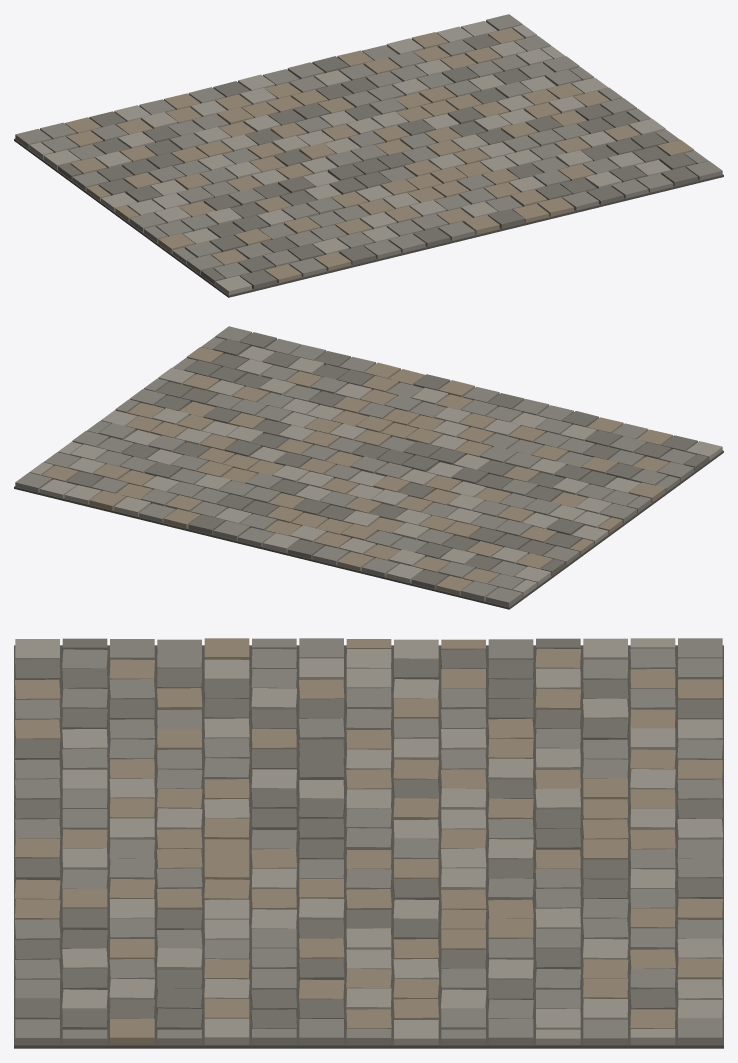
The model's file is suelo-calles-adoquin-calle-recta.glb.
3 renders of one model, top to bottom at view 1: azimuth 30°, elevation 25°; view 2: azimuth 150°, elevation 25°; view 3: azimuth 270°, elevation 25°, orthographic. The views are drawn at different scales.
Parts seen in each view (by area): view 1: calle_recta_AdoquinGris1, calle_recta_AdoquinCalido, calle_recta_AdoquinGris3, calle_recta_AdoquinGris2, calle_recta_LosaCalle; view 2: calle_recta_AdoquinGris1, calle_recta_AdoquinCalido, calle_recta_AdoquinGris3, calle_recta_AdoquinGris2, calle_recta_LosaCalle; view 3: calle_recta_AdoquinGris1, calle_recta_AdoquinCalido, calle_recta_AdoquinGris3, calle_recta_AdoquinGris2, calle_recta_LosaCalle.
Part boxes in pixels (bbox=[...]): calle_recta_AdoquinGris1: bbox=[15, 14, 722, 278]; calle_recta_AdoquinCalido: bbox=[64, 28, 694, 283]; calle_recta_AdoquinGris3: bbox=[29, 21, 670, 295]; calle_recta_AdoquinGris2: bbox=[58, 34, 697, 289]; calle_recta_LosaCalle: bbox=[14, 138, 723, 297]; calle_recta_AdoquinGris1: bbox=[15, 326, 695, 606]; calle_recta_AdoquinCalido: bbox=[41, 347, 672, 594]; calle_recta_AdoquinGris3: bbox=[29, 346, 722, 596]; calle_recta_AdoquinGris2: bbox=[66, 332, 708, 588]; calle_recta_LosaCalle: bbox=[14, 450, 723, 609]; calle_recta_AdoquinGris1: bbox=[14, 638, 722, 1044]; calle_recta_AdoquinCalido: bbox=[14, 638, 722, 1044]; calle_recta_AdoquinGris3: bbox=[15, 638, 722, 1044]; calle_recta_AdoquinGris2: bbox=[15, 638, 722, 1034]; calle_recta_LosaCalle: bbox=[14, 645, 723, 1048].
Size of the model in its own units: 8 by 0.103 by 6.
